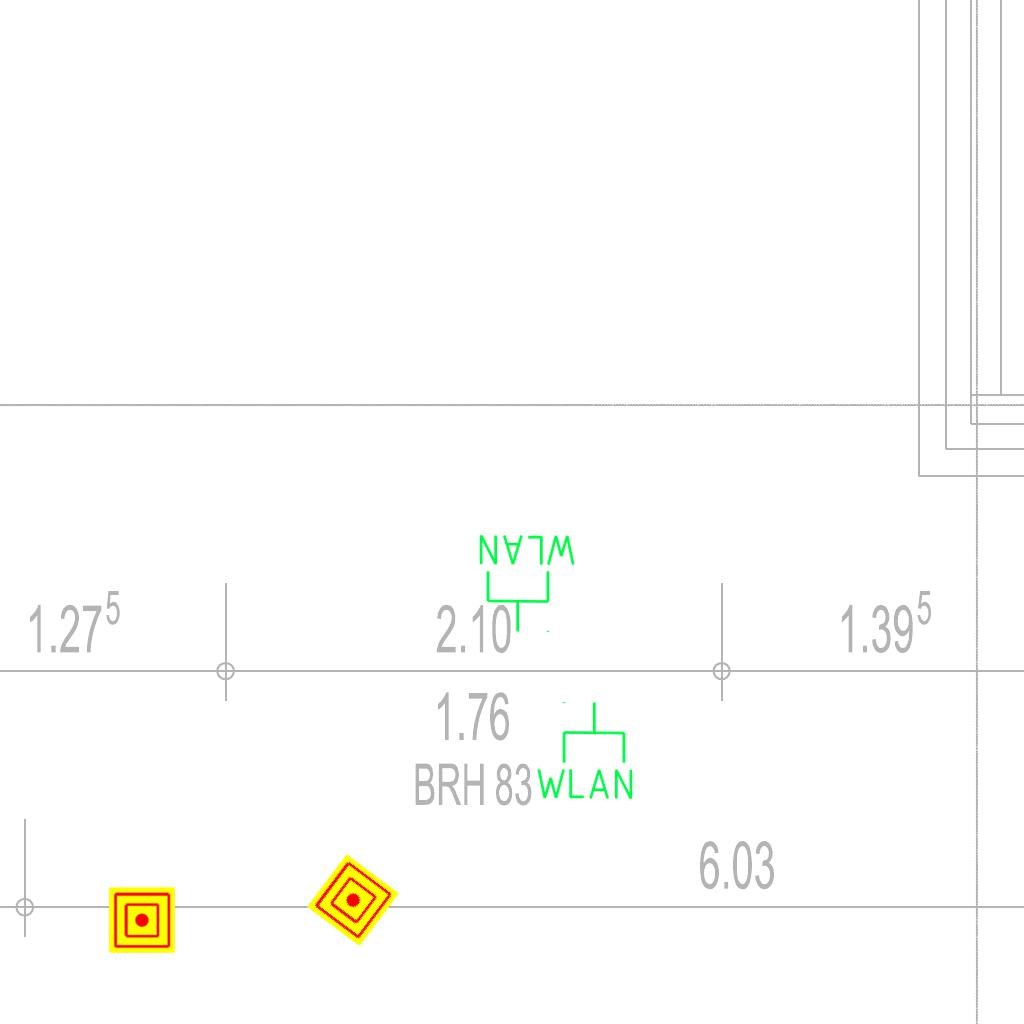NAM-Nichtautomatischer_Melder: (306, 853, 400, 947), (109, 887, 175, 953)
WLAN: (475, 531, 580, 635), (532, 699, 637, 803)
